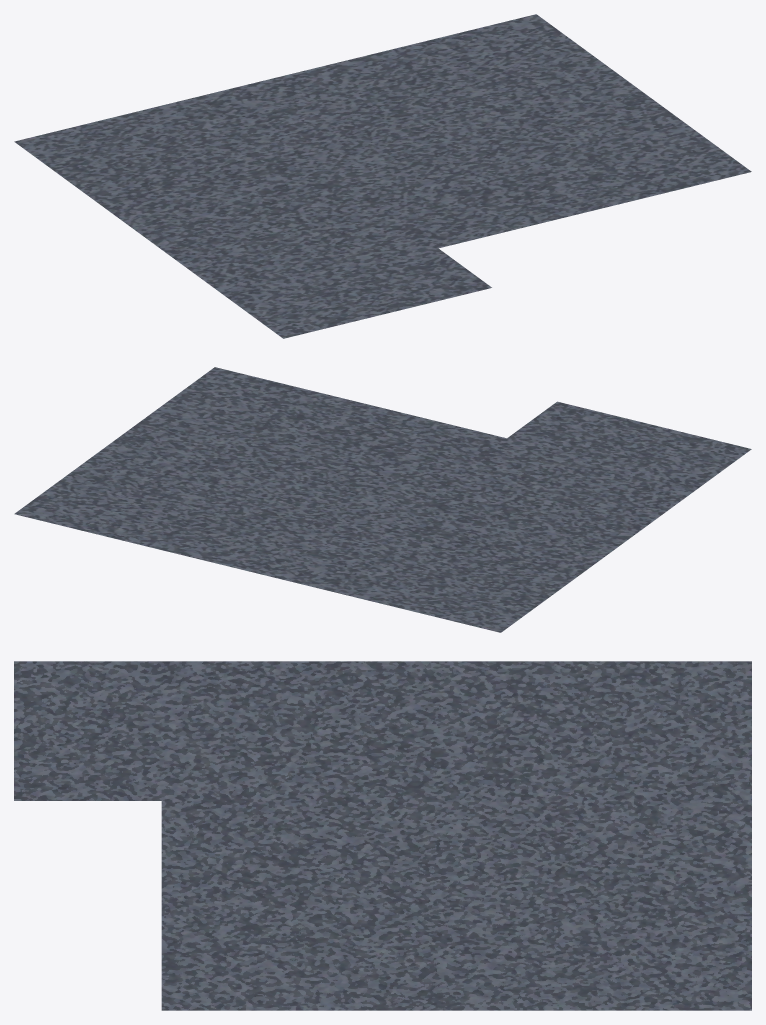
The model's file is groundExported.fbx.
3 views of the same model, one above another, from view 1: azimuth 30°, elevation 25°; view 2: azimuth 150°, elevation 25°; view 3: azimuth 270°, elevation 25° (orthographic). The views are drawn at different scales.
Parts seen in each view (by area): view 1: Floor; view 2: Floor; view 3: Floor.
Boxes of the visible parts, <box> form: Floor: <box>14,14,751,338</box>; Floor: <box>14,367,751,632</box>; Floor: <box>14,661,751,1010</box>.
Size of the model in its own units: 54.75 by 2.99e-15 by 48.9.
